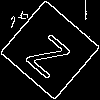Z: (25, 25, 78, 80)
